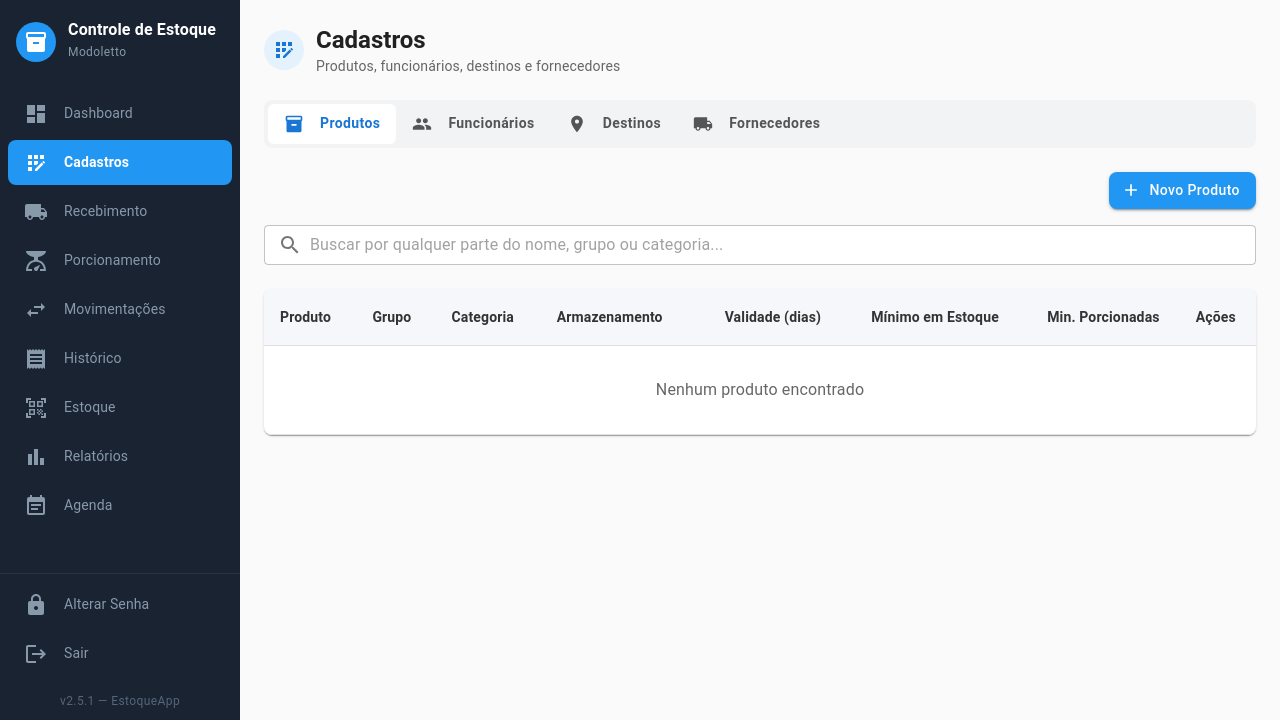
Cadastros page › shows the header and switches to the Destinos and Fornecedores registries
The width and height of the screenshot is (1280, 720).
Expected: the heading "Cadastros" is shown, [316,26,426,54]
Expected: the text "Produtos, funcionários, destinos e fornecedores" is shown, [316,58,620,74]
"Destinos" tab
Click the tab "Destinos" at (614, 124), box [551,104,677,144]
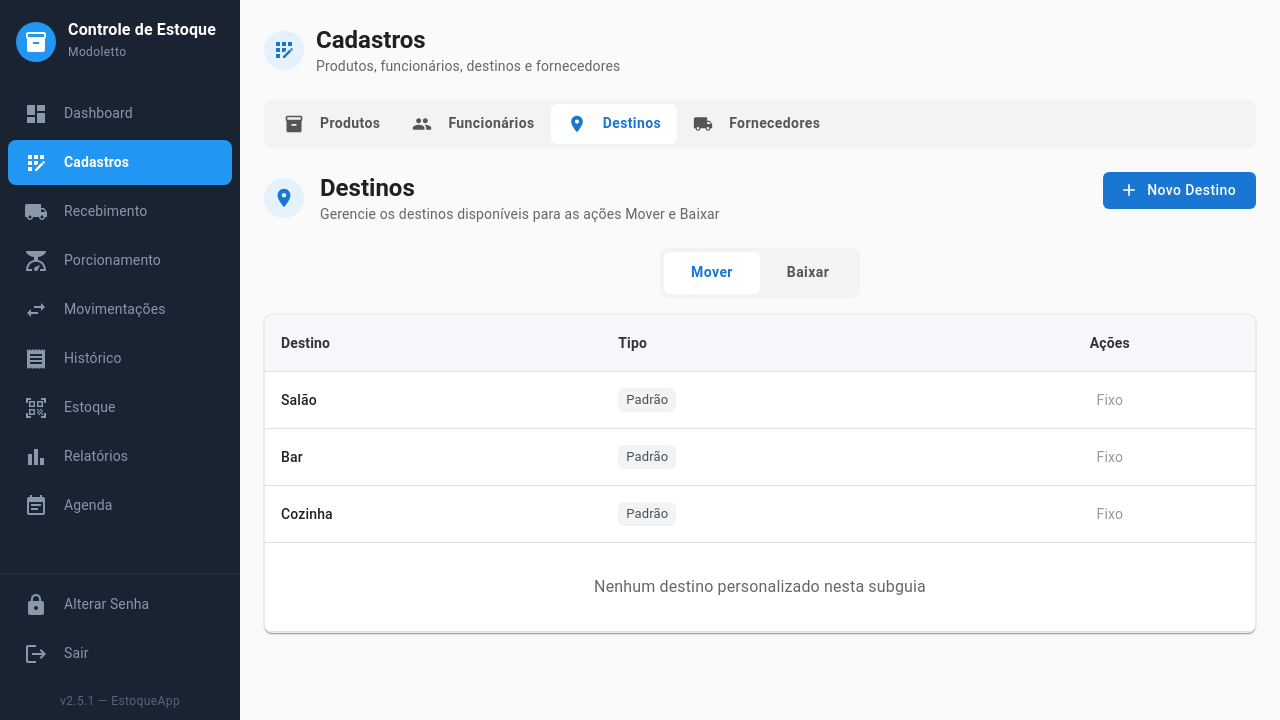
Expected: the text "Gerencie os destinos disponíveis para as ações Mover e Baixar" is shown, [320,204,720,224]
Expected: the text "Salão" is shown, [281,392,317,408]
"Fornecedores" tab
Click the tab "Fornecedores" at (757, 124), box [677,104,836,144]
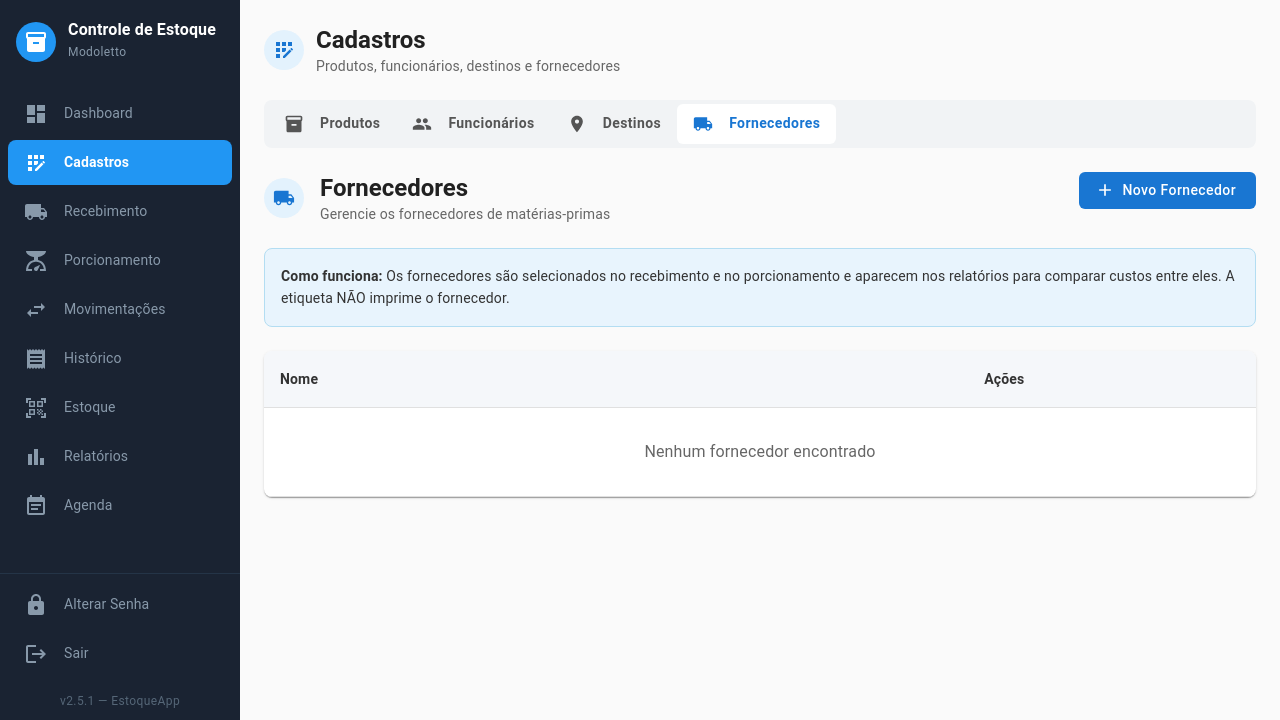
Expected: the text "Nenhum fornecedor encontrado" is shown, [644,442,876,461]
Expected: the button "Novo Fornecedor" is shown, [1078,172,1256,208]
